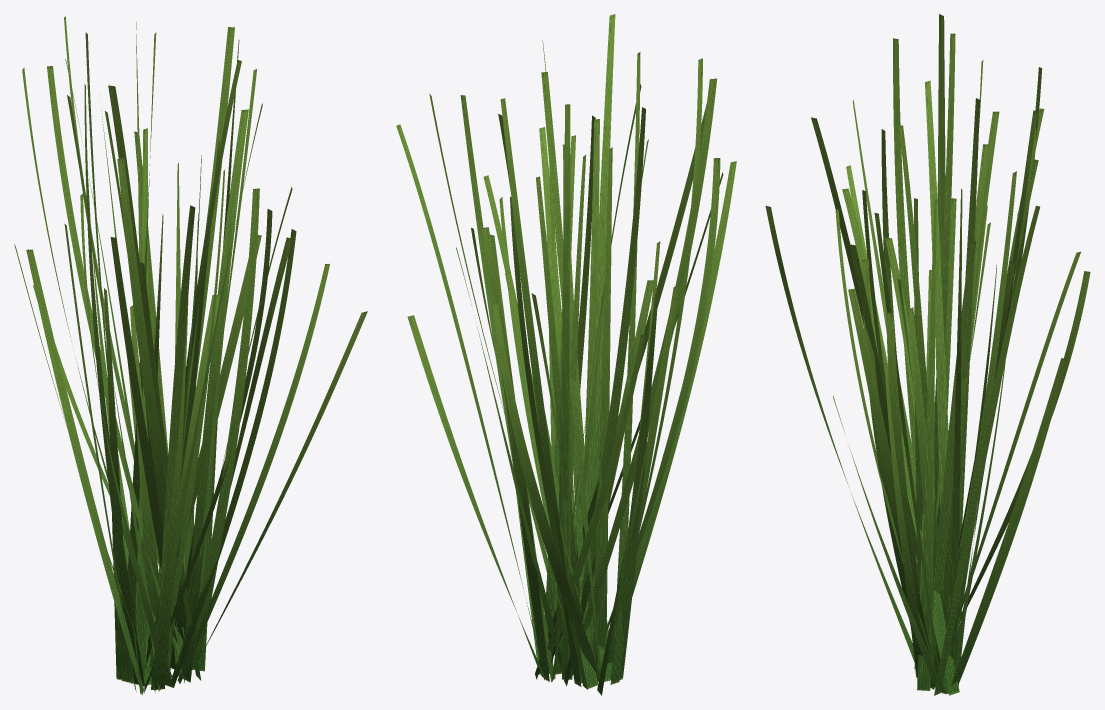
File: vallisneria.glb
3 views of the same model, side by side, from view 1: azimuth 30°, elevation 25°; view 2: azimuth 150°, elevation 25°; view 3: azimuth 270°, elevation 25° (orthographic). The views are drawn at different scales.
Parts seen in each view (by area): view 1: SwayVallis2, SwayVallis0, SwayVallis1; view 2: SwayVallis2, SwayVallis0, SwayVallis1; view 3: SwayVallis0, SwayVallis2, SwayVallis1.
Boxes of the visible parts, bbox=[...] form: SwayVallis2: bbox=[22, 60, 259, 695]; SwayVallis0: bbox=[33, 16, 367, 694]; SwayVallis1: bbox=[14, 22, 296, 693]; SwayVallis2: bbox=[456, 40, 736, 695]; SwayVallis0: bbox=[396, 52, 720, 688]; SwayVallis1: bbox=[493, 14, 678, 686]; SwayVallis0: bbox=[833, 33, 1067, 695]; SwayVallis2: bbox=[765, 14, 1080, 695]; SwayVallis1: bbox=[811, 80, 1090, 685].
Bounding box in the file's own units: 2.08 × 4.52 × 2.17.
Materials: 1 (1 with a texture image).
